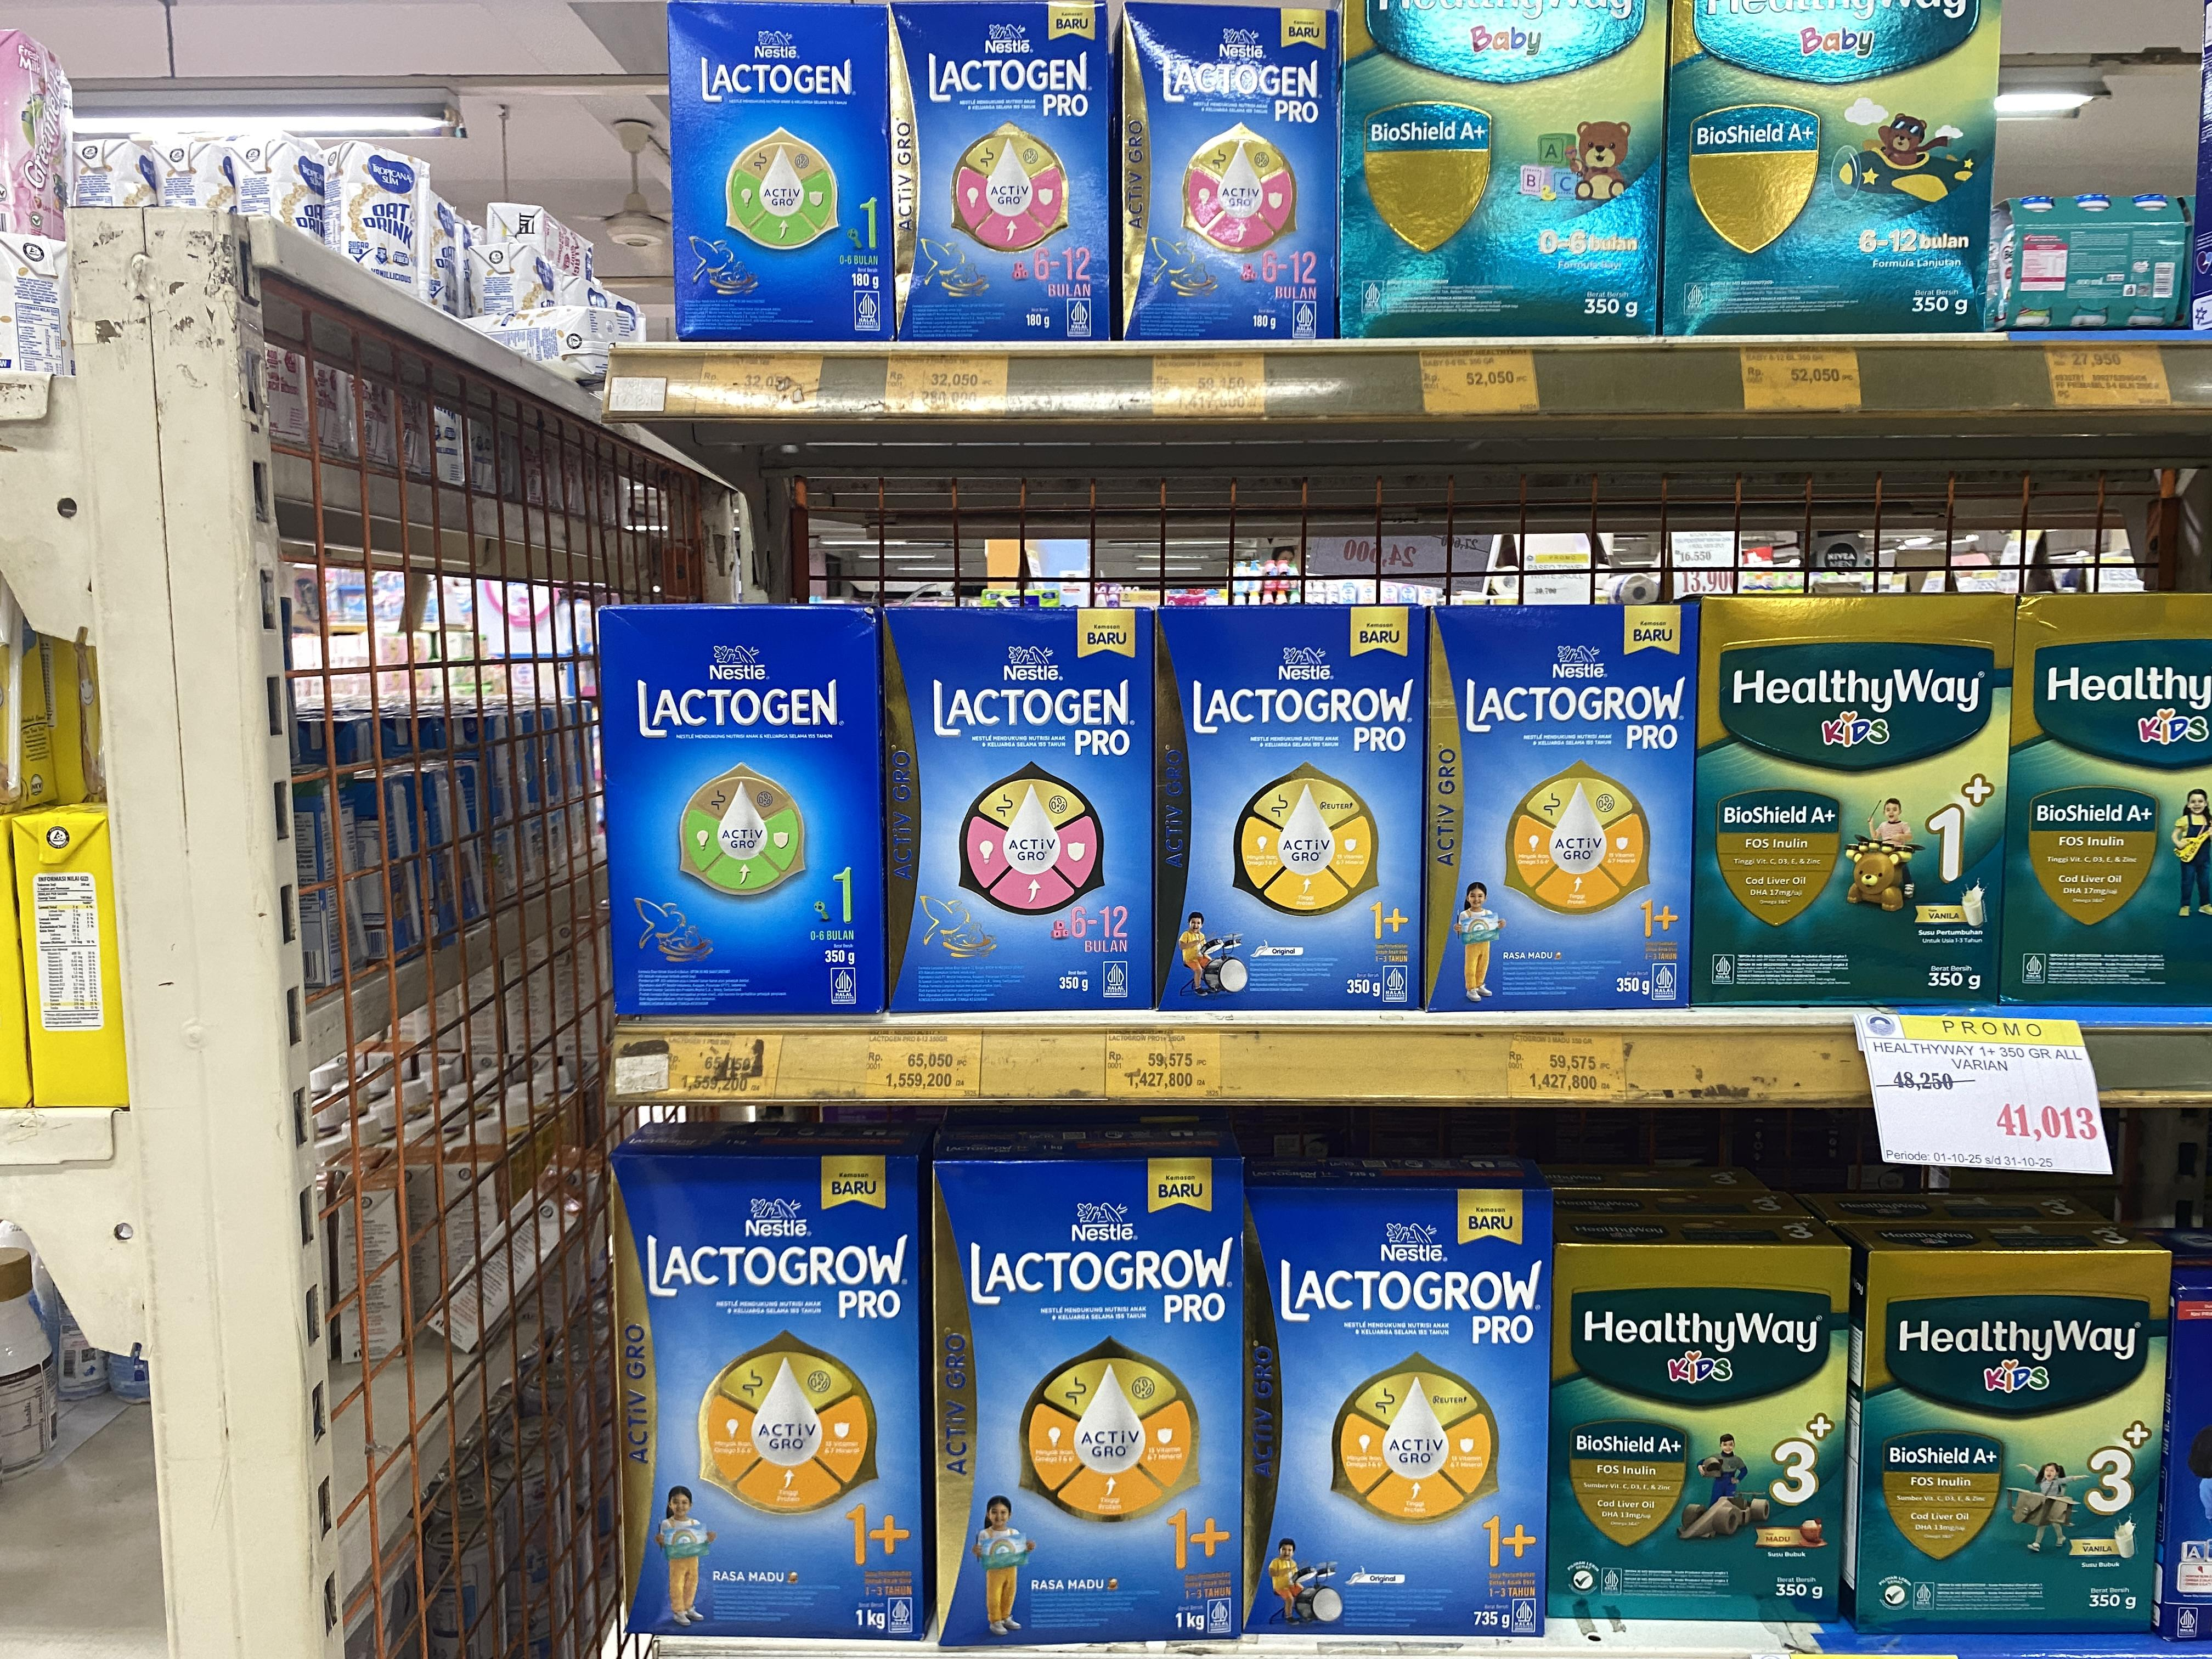LACTOGEN PRO 6-12 mo 40x180g ID: (1111, 0, 1339, 345)
